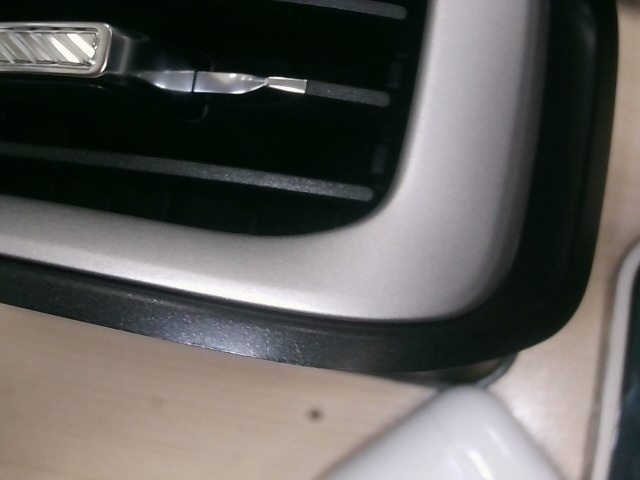NG: (256, 335, 318, 370)
